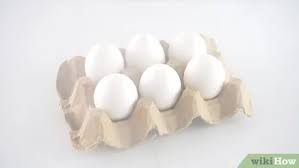eggs: (138, 62, 179, 107), (100, 69, 134, 117), (188, 48, 216, 104), (128, 28, 164, 70), (167, 28, 211, 59), (93, 34, 124, 73)
